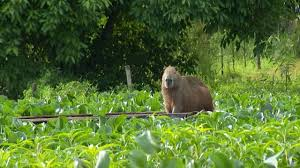capivara: (160, 64, 214, 115)
